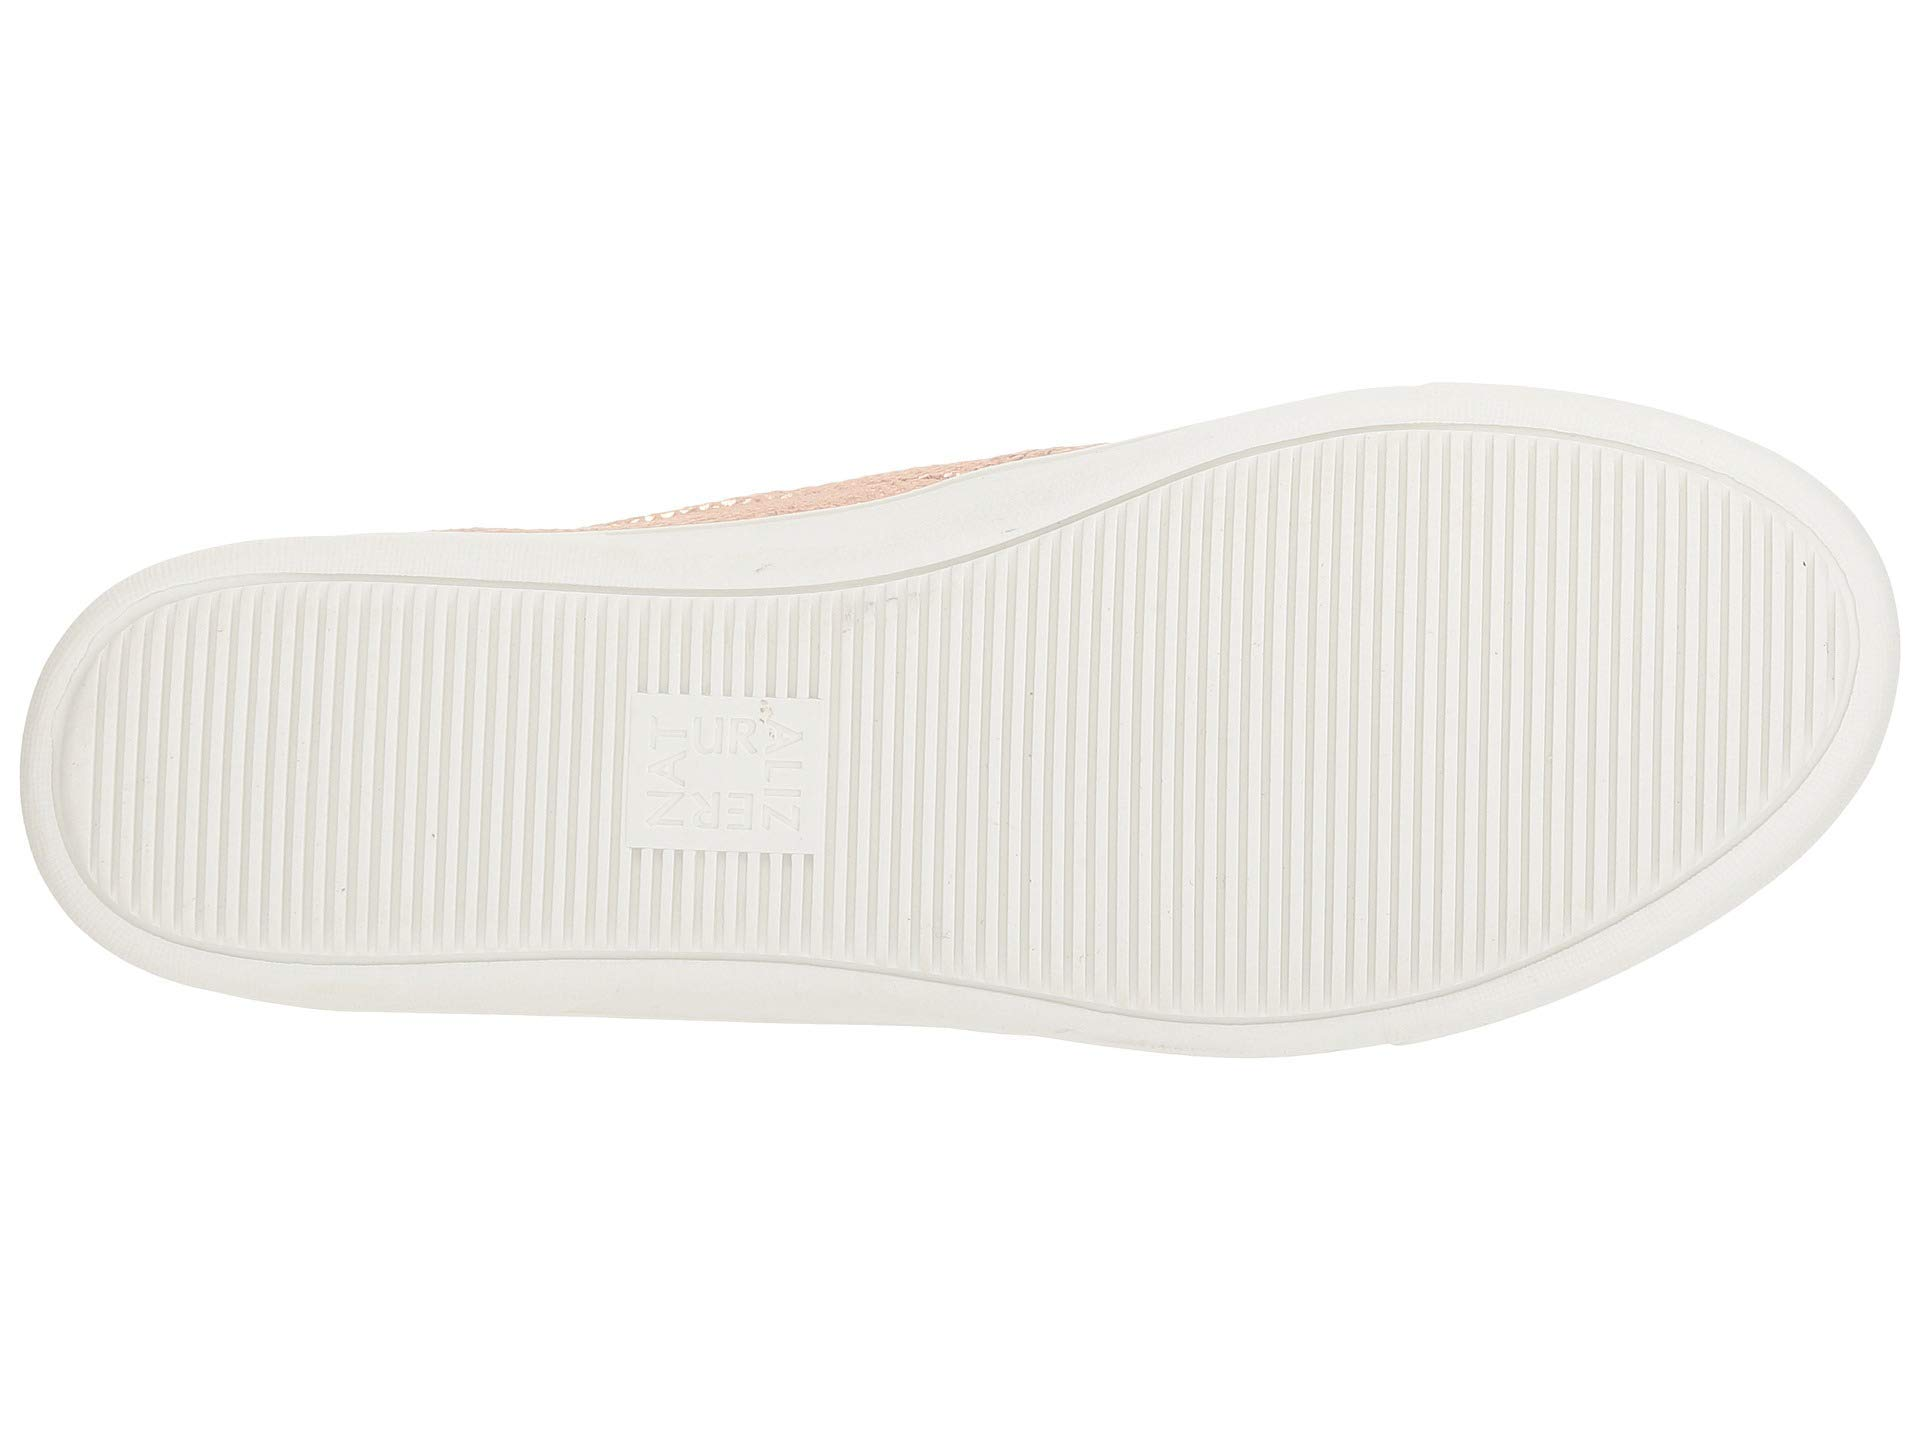line: (1099, 529, 1674, 889), (172, 632, 593, 909)
quad: (624, 684, 822, 858)
text: (624, 684, 822, 858)
